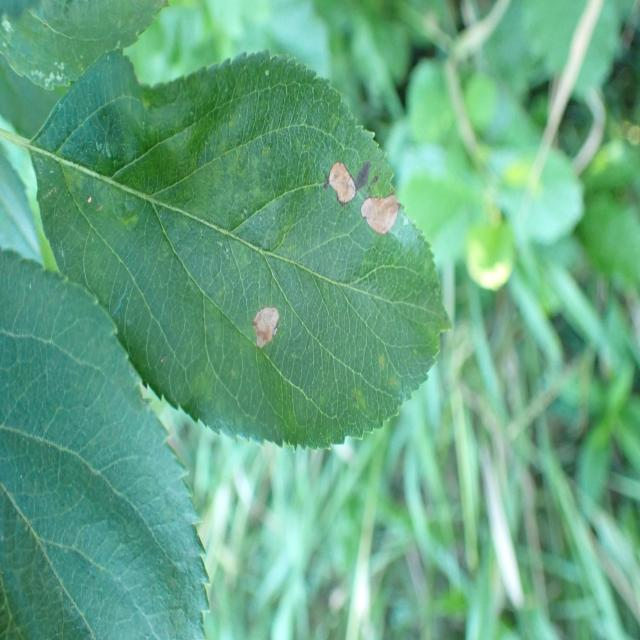Black Rot: (244, 282, 286, 362), (356, 186, 412, 240), (318, 156, 361, 208)
